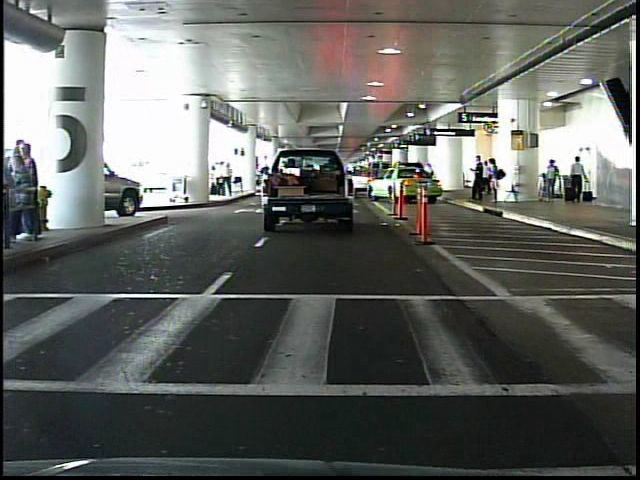person: (470, 154, 487, 206), (488, 157, 505, 206), (483, 160, 491, 198)
